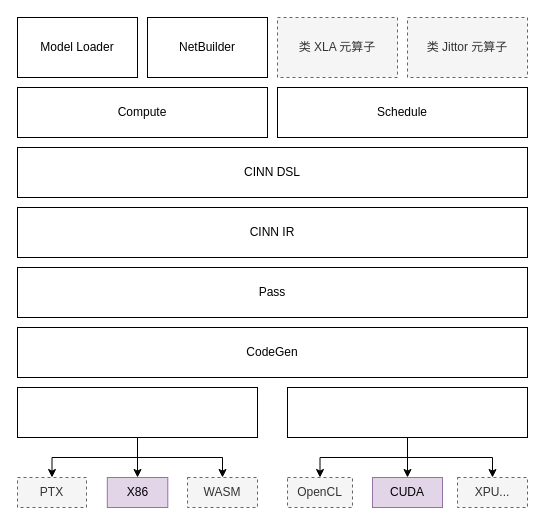
Some shapes in this 545 by 525 pixel diagram are drawn without their labels. Here are the shapes that lost their labels. From the top down, the centre of each, then its label:
At (x=137, y=412): "CodeGenLLVM".
At (x=407, y=412): "CodeGenC".
